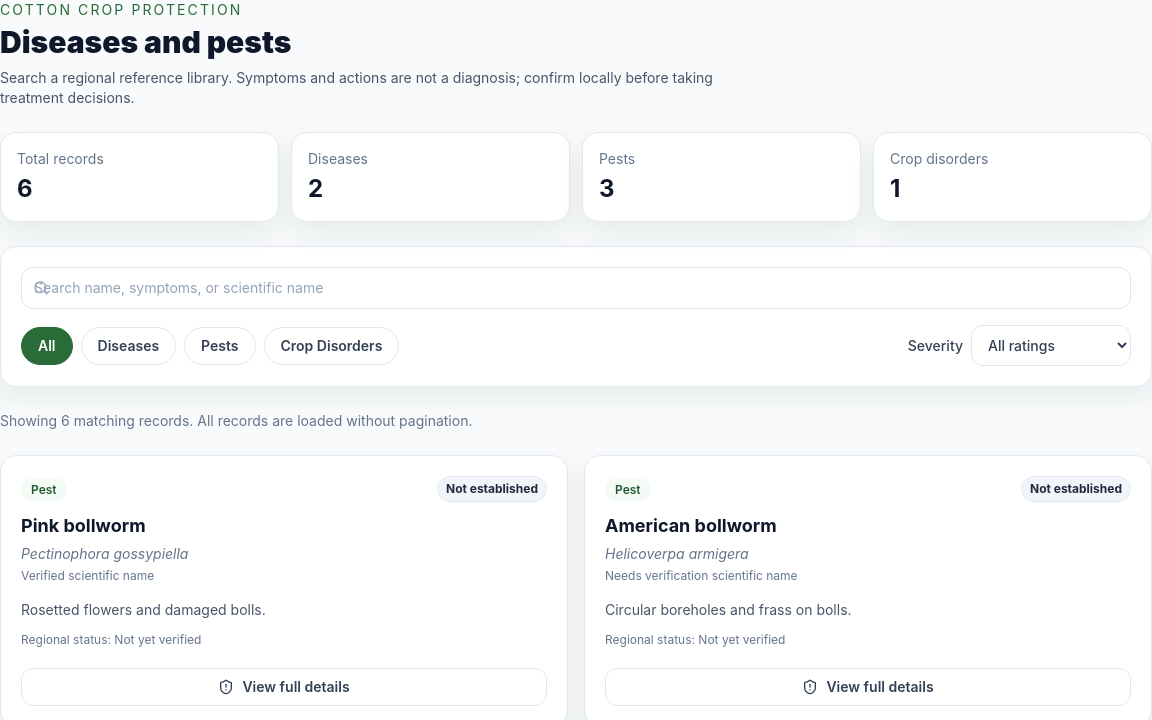
Test case: CottonIssueGuide › renders the actual severity badge and explanation in the card and dialog
Click the button "View full details" below "Rosetted flowers and damaged bolls.". click: (284, 687)
box: [21,668,547,706]
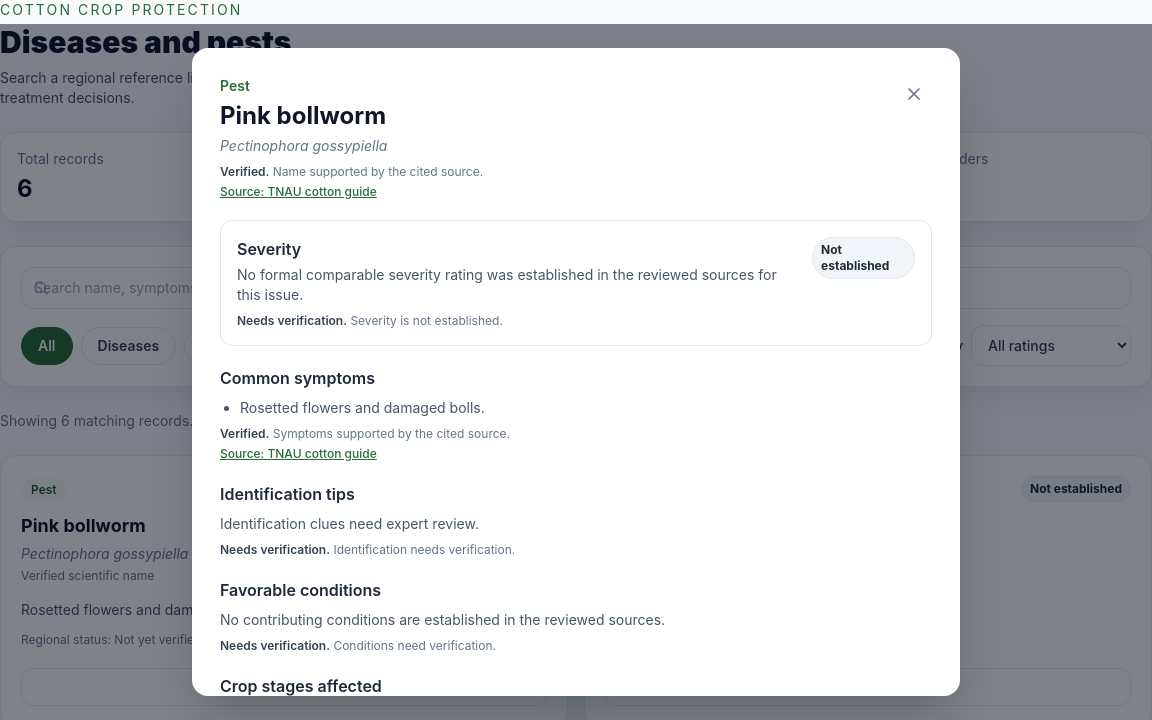
Expected: the text "No formal comparable severity rating was established in the reviewed sources for this issue." is shown, [237,266,777,303]
